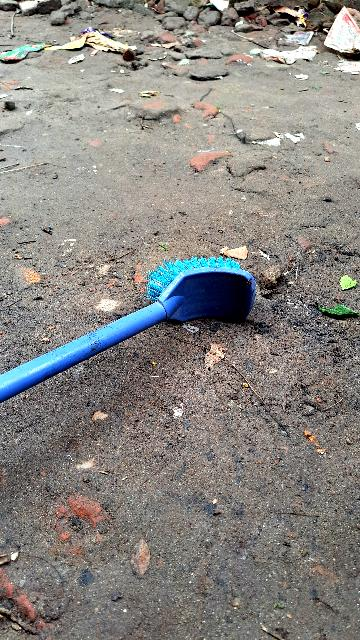hardplastic: (0, 246, 266, 412)
